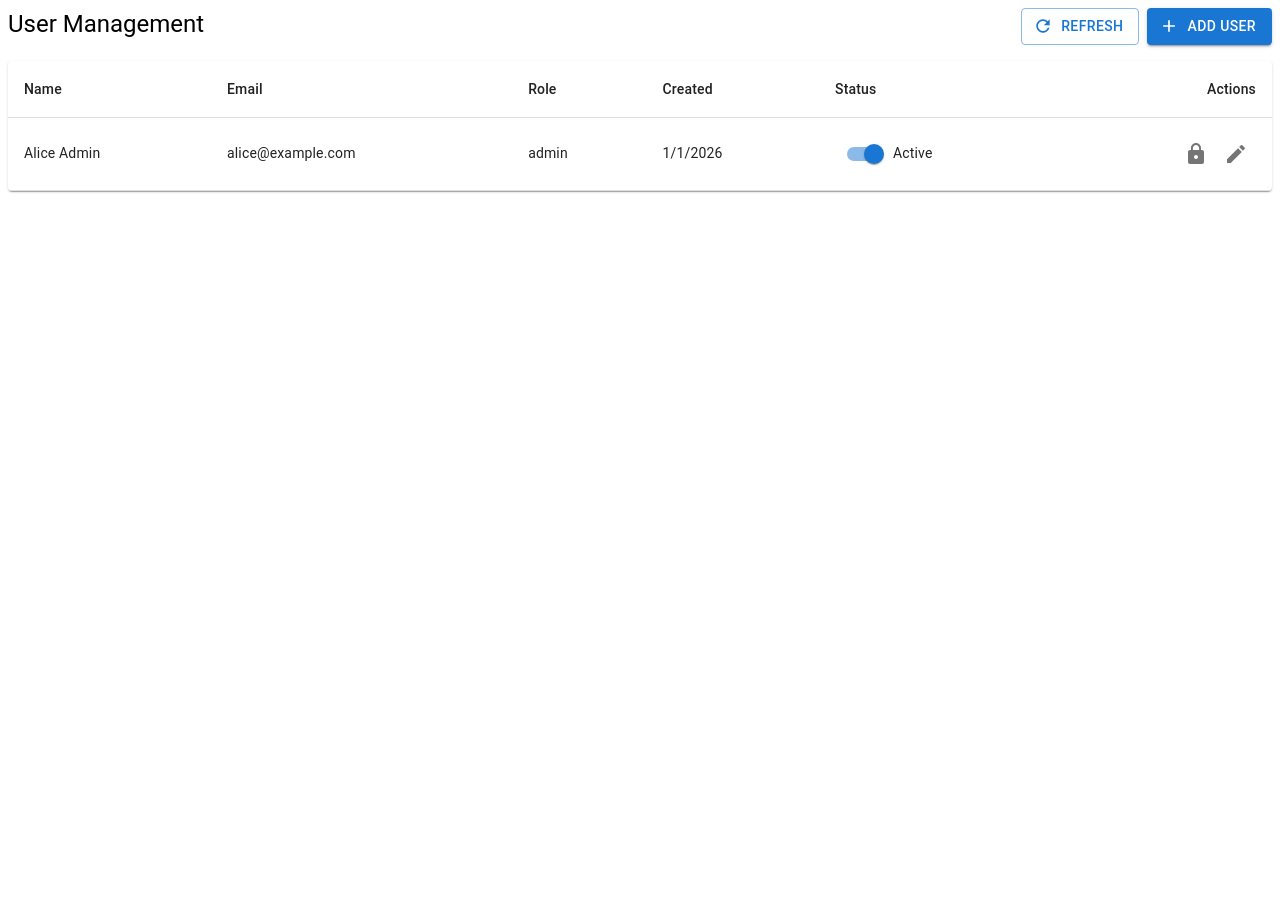
Test: UserManagement — edit user › edits an existing user and updates the row
Expected: the text "Alice Admin" is shown, x1=8 y1=117 x2=211 y2=190
Click the button named "edit user".
click(1236, 154)  # box x1=1216 y1=134 x2=1256 y2=174
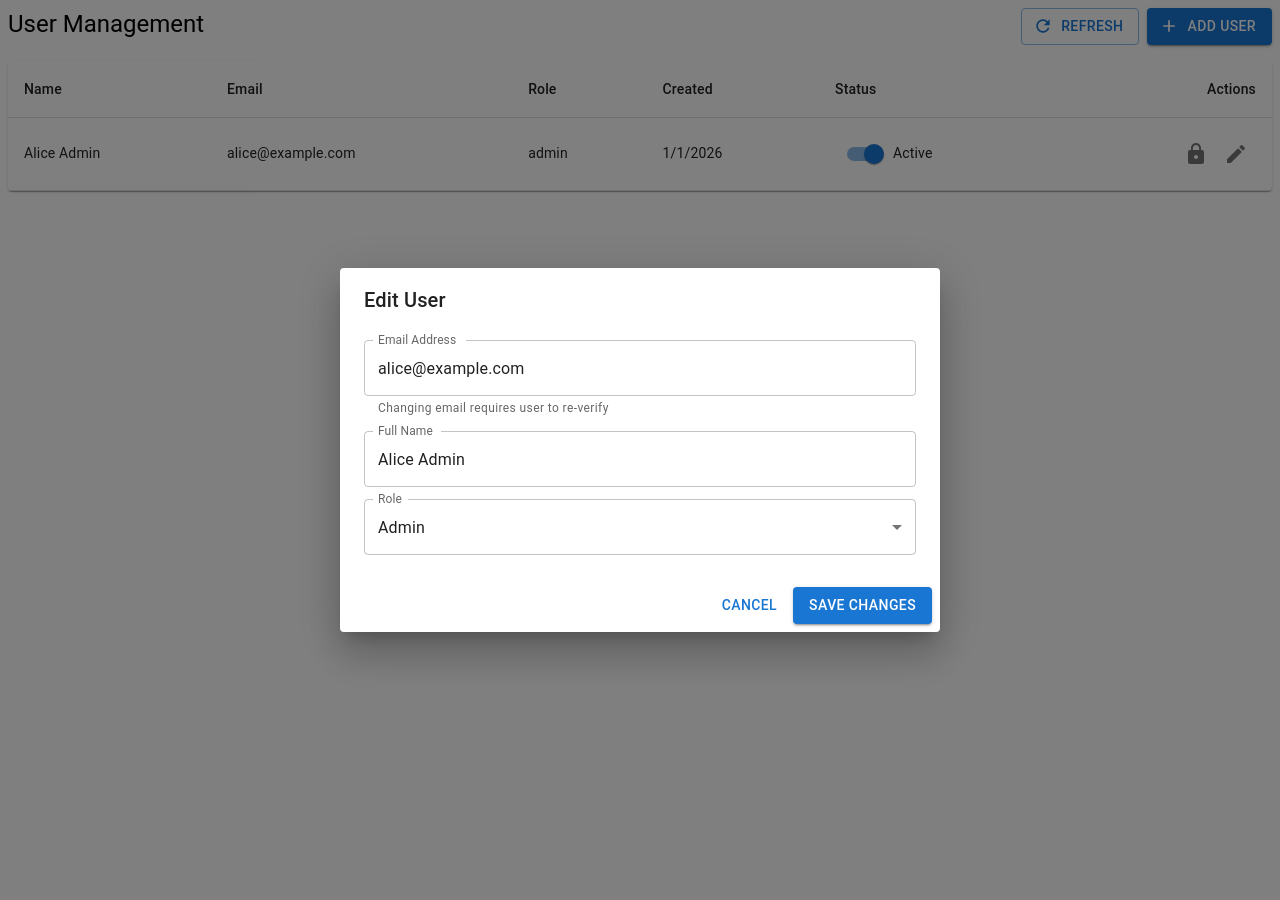
Now the heading "Edit User" is shown, box x1=364 y1=288 x2=446 y2=312
Replace the text in the field labelled "Full Name" with "Alice Renamed" at x=640, y=459, box x1=364 y1=431 x2=916 y2=487
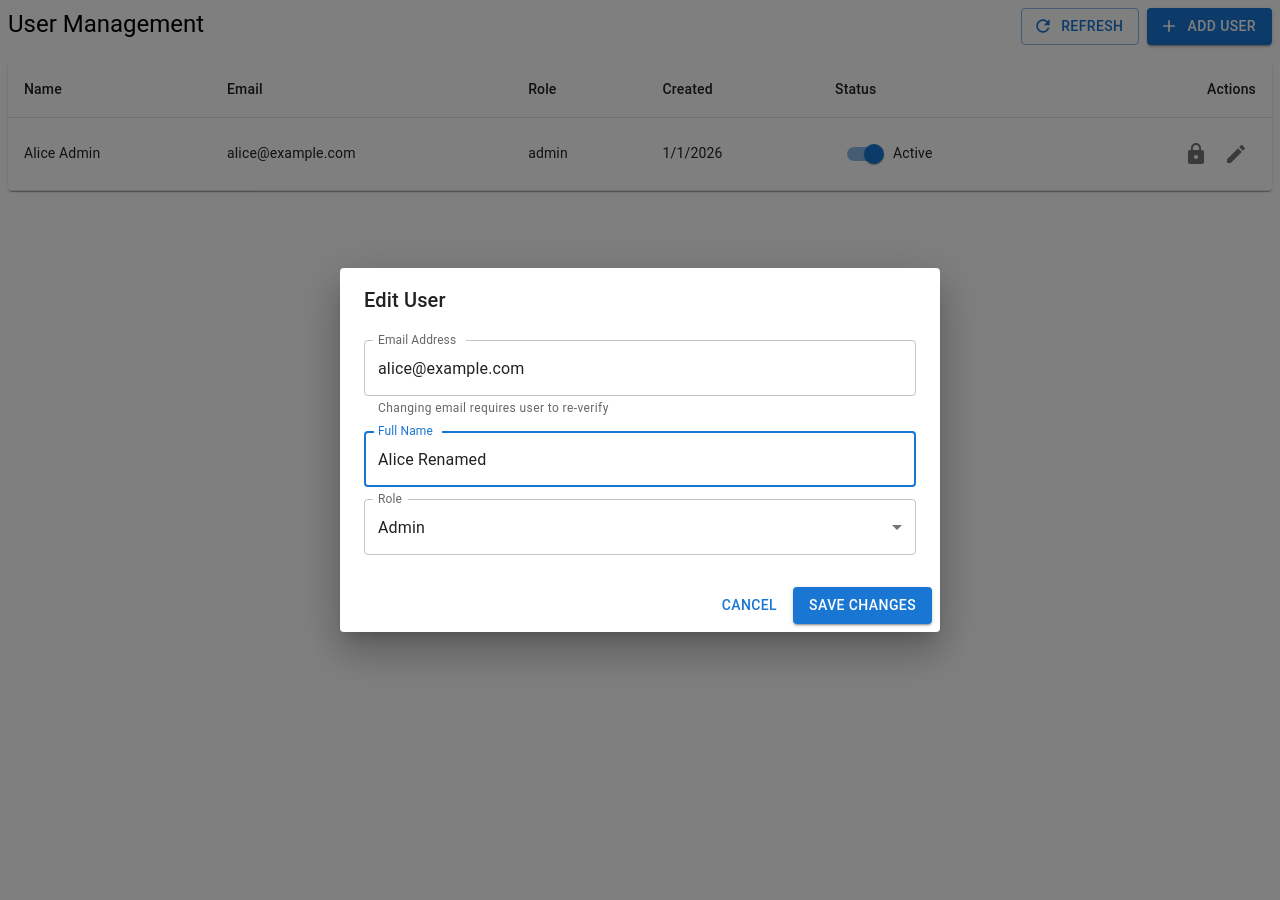
Click the button "Save Changes".
click(863, 605)  # box x1=793 y1=587 x2=932 y2=624
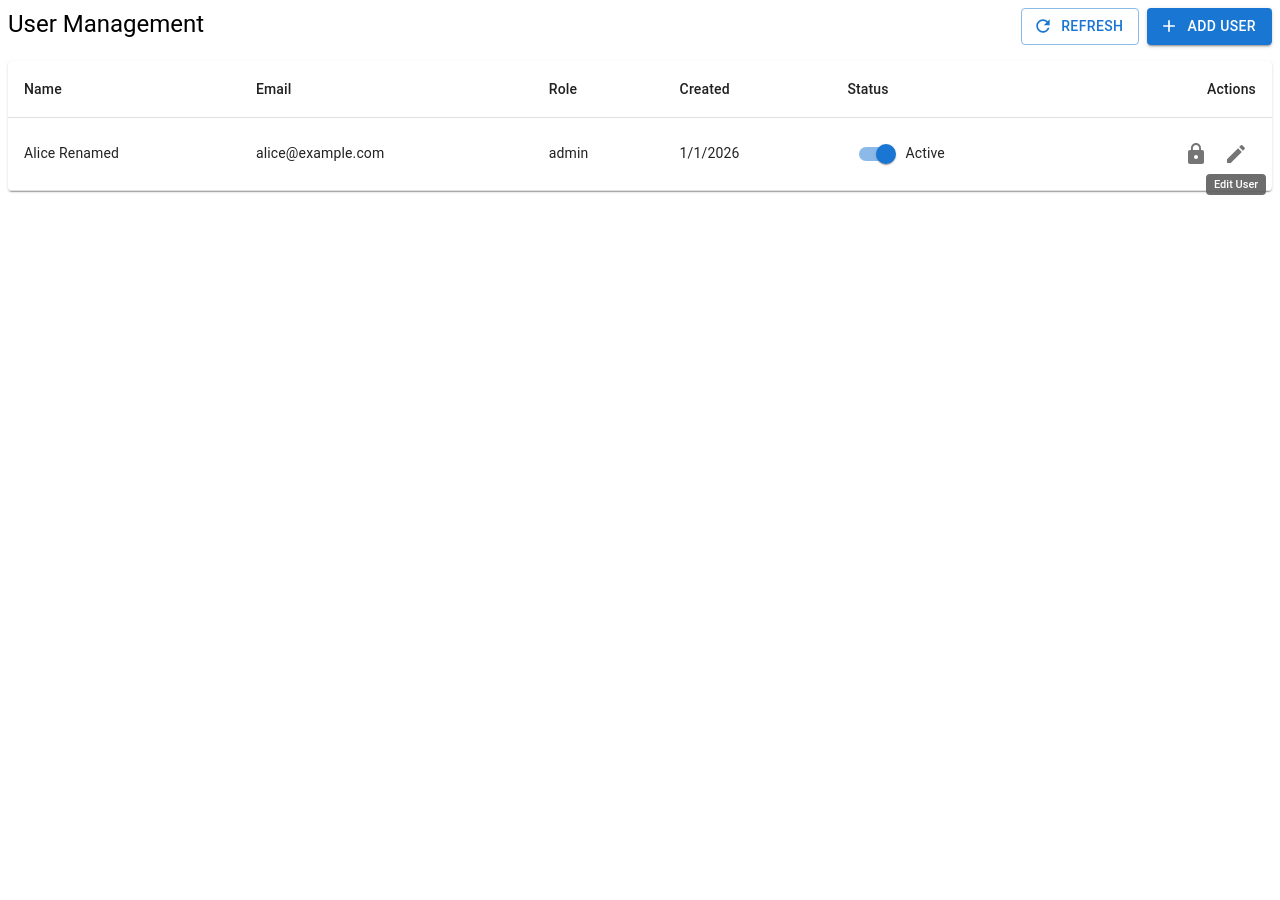
Now the text "Alice Admin" reads "Alice Renamed", box x1=24 y1=146 x2=119 y2=162
Now the text "Alice Renamed" is shown, box x1=8 y1=117 x2=240 y2=190
